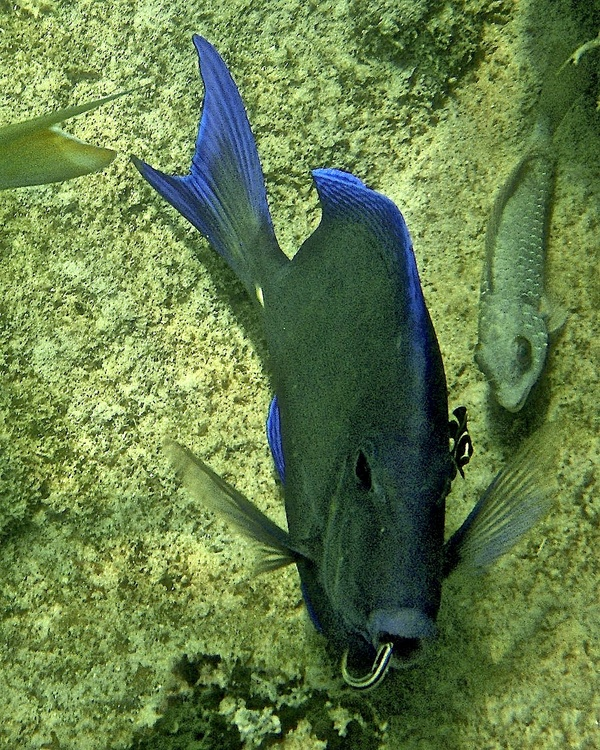Acanthurus_coeruleus: (127, 32, 529, 694)
